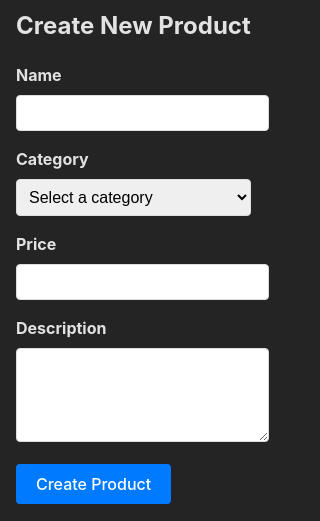
Test case: CreateProductForm › should disable submit button while submitting
The image size is (320, 521).
Step 1. Type "Laptop" into the field labelled "Name" → (142, 113), box x1=16 y1=95 x2=269 y2=131
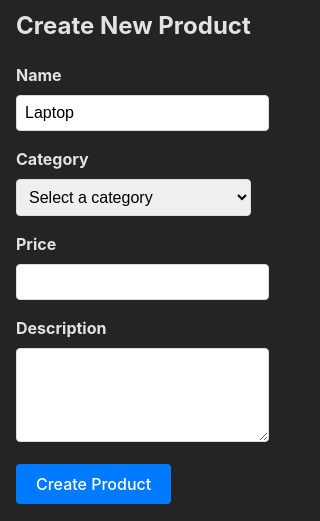
Step 2. Select "Electronics" in the dropdown labelled "Category" → (133, 198), box x1=16 y1=179 x2=251 y2=216
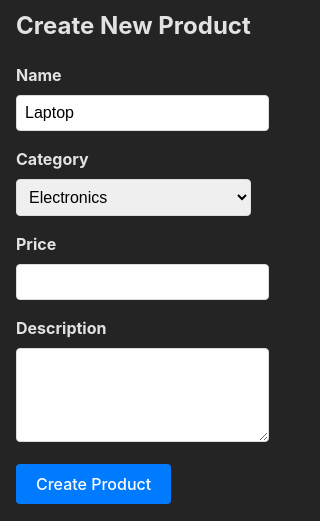
Step 3. Type "999.99" into the number field labelled "Price" → (142, 282), box x1=16 y1=264 x2=269 y2=300
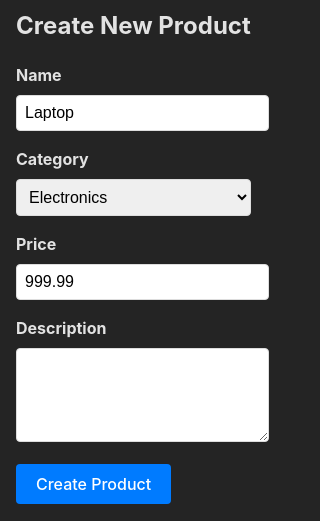
Step 4. Click the button "Create Product" → (94, 484), box x1=16 y1=464 x2=171 y2=504
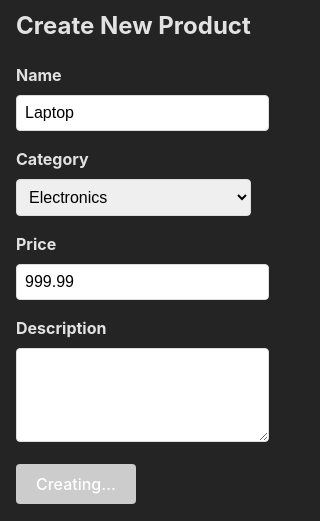
Check: the button named "create product" is disabled, box x1=16 y1=464 x2=136 y2=504
